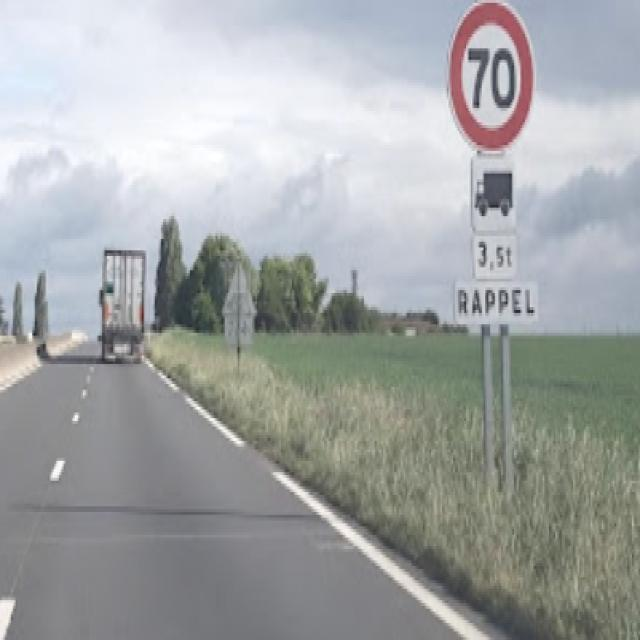speed_70: (448, 0, 535, 158)
